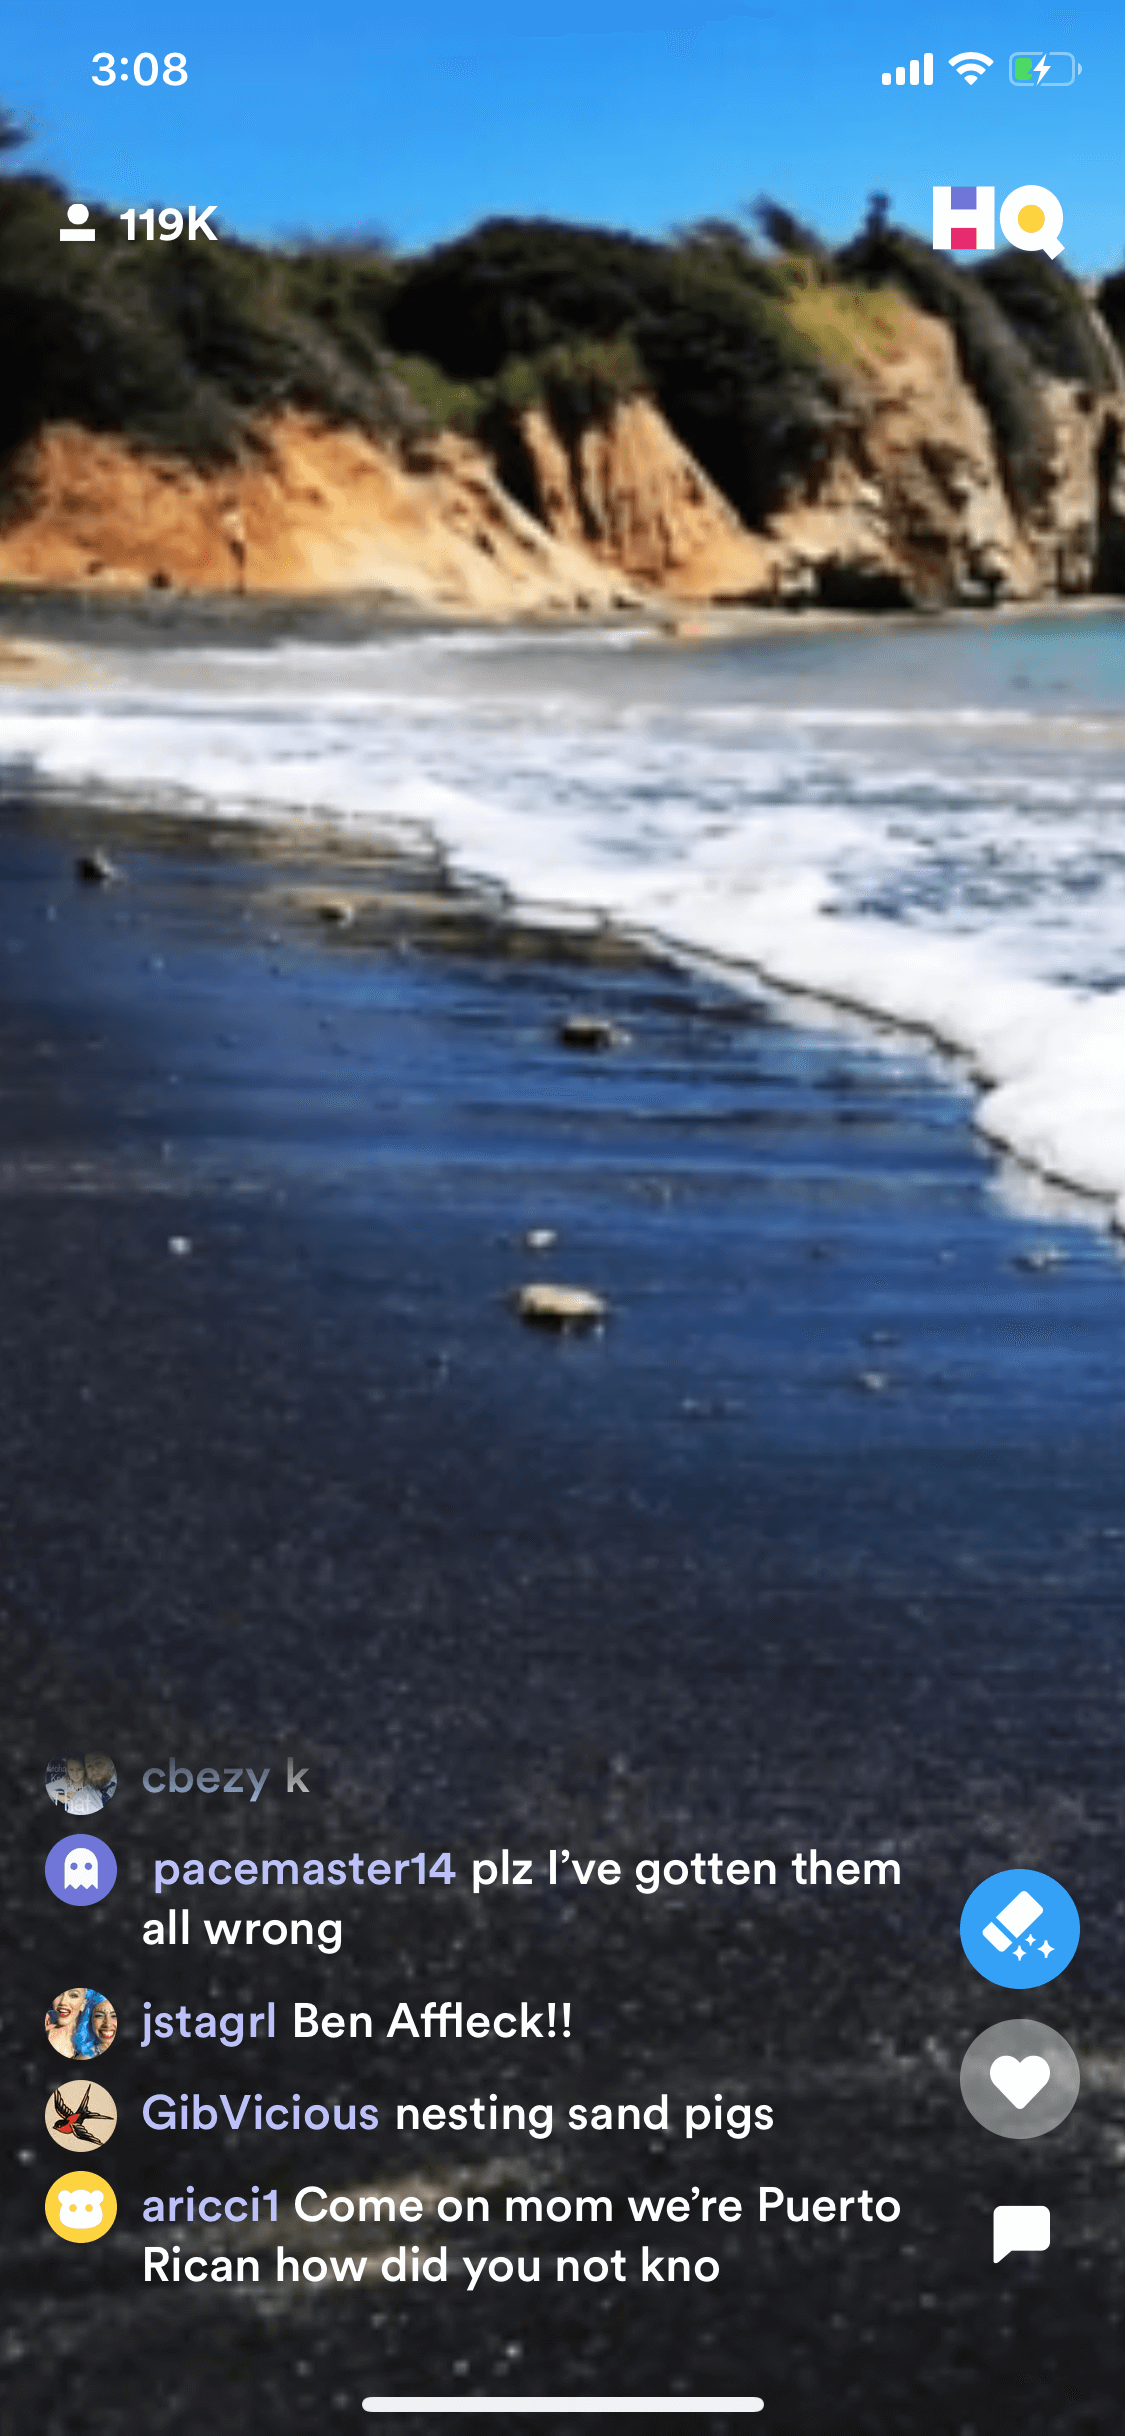FAB (Floating Action Button): (946, 1857, 1095, 2001), (946, 2010, 1100, 2145), (943, 2173, 1102, 2292)
